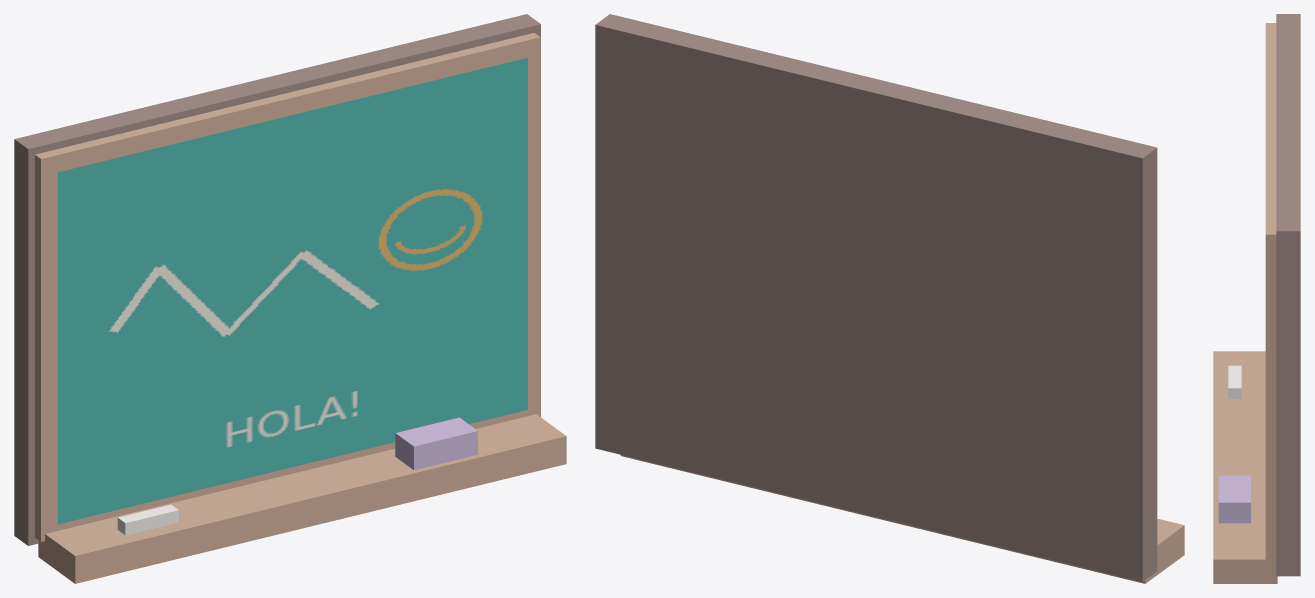
The model's file is 05_pizarra_visitas.glb.
3 views of the same model, side by side, from view 1: azimuth 30°, elevation 25°; view 2: azimuth 150°, elevation 25°; view 3: azimuth 270°, elevation 25° (orthographic). The views are drawn at different scales.
Parts seen in each view (by area): view 1: surface, body (×4); view 2: body (×2); view 3: body (×4).
Boxes of the visible parts, <box> form: surface: <box>57,57,527,524</box>; body (×4): <box>14,14,566,583</box>; body (×2): <box>595,14,1184,583</box>; body (×4): <box>1213,14,1300,583</box>.
Bounding box in the file's own units: 0.96 × 0.735 × 0.1625.
5 materials, 1 textured.
